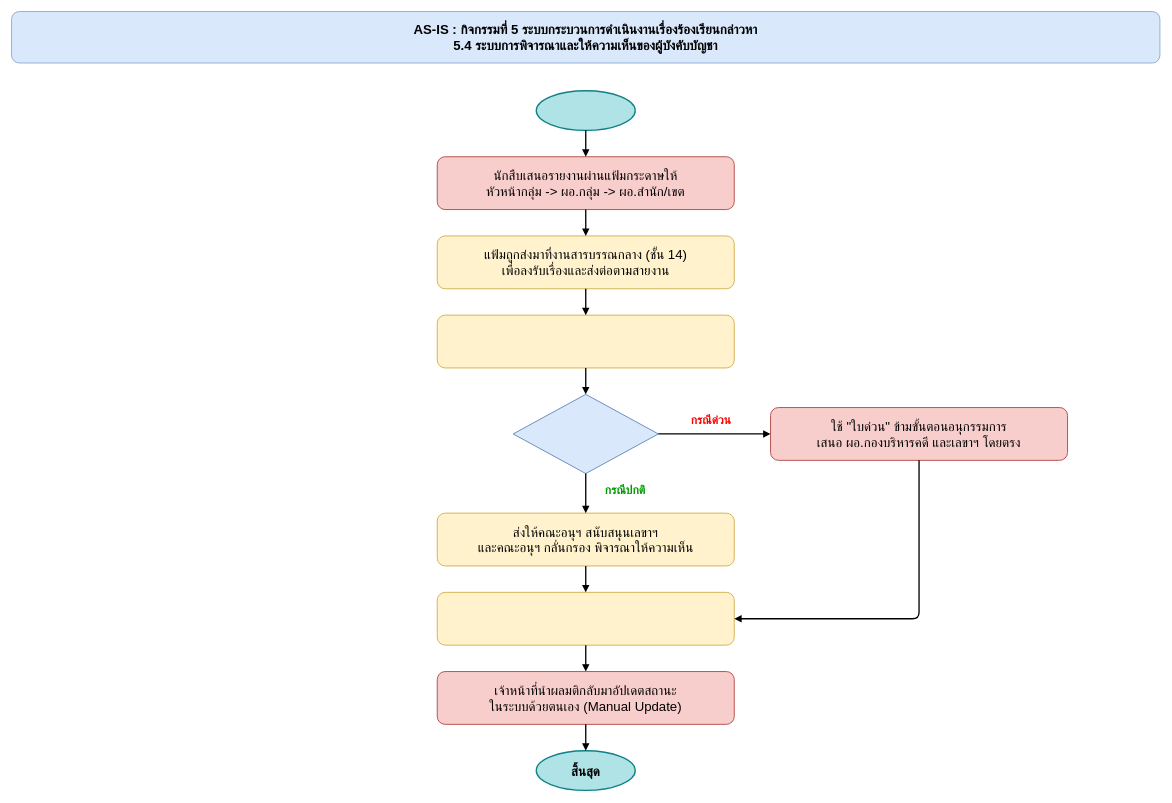
The diagram is 1172 pixels wide and 803 high, and some of its shapes have lost their labels. The centre of each missing label's shape, as x and y in pixels:
กรณีเร่งด่วน (ใกล้ขาดอายุความ)?: (x=585, y=434)
บรรจุวาระเข้าที่ประชุมคณะกรรมการ ป.ป.ท. และพิจารณามีมติที่ประชุม: (x=585, y=618)
เริ่มต้น: (x=585, y=110)
เสนอแฟ้มตามลำดับ: ผู้ช่วยเลขาฯ -> รองเลขาฯ -> เลขาธิการ ป.ป.ท.: (x=585, y=341)
